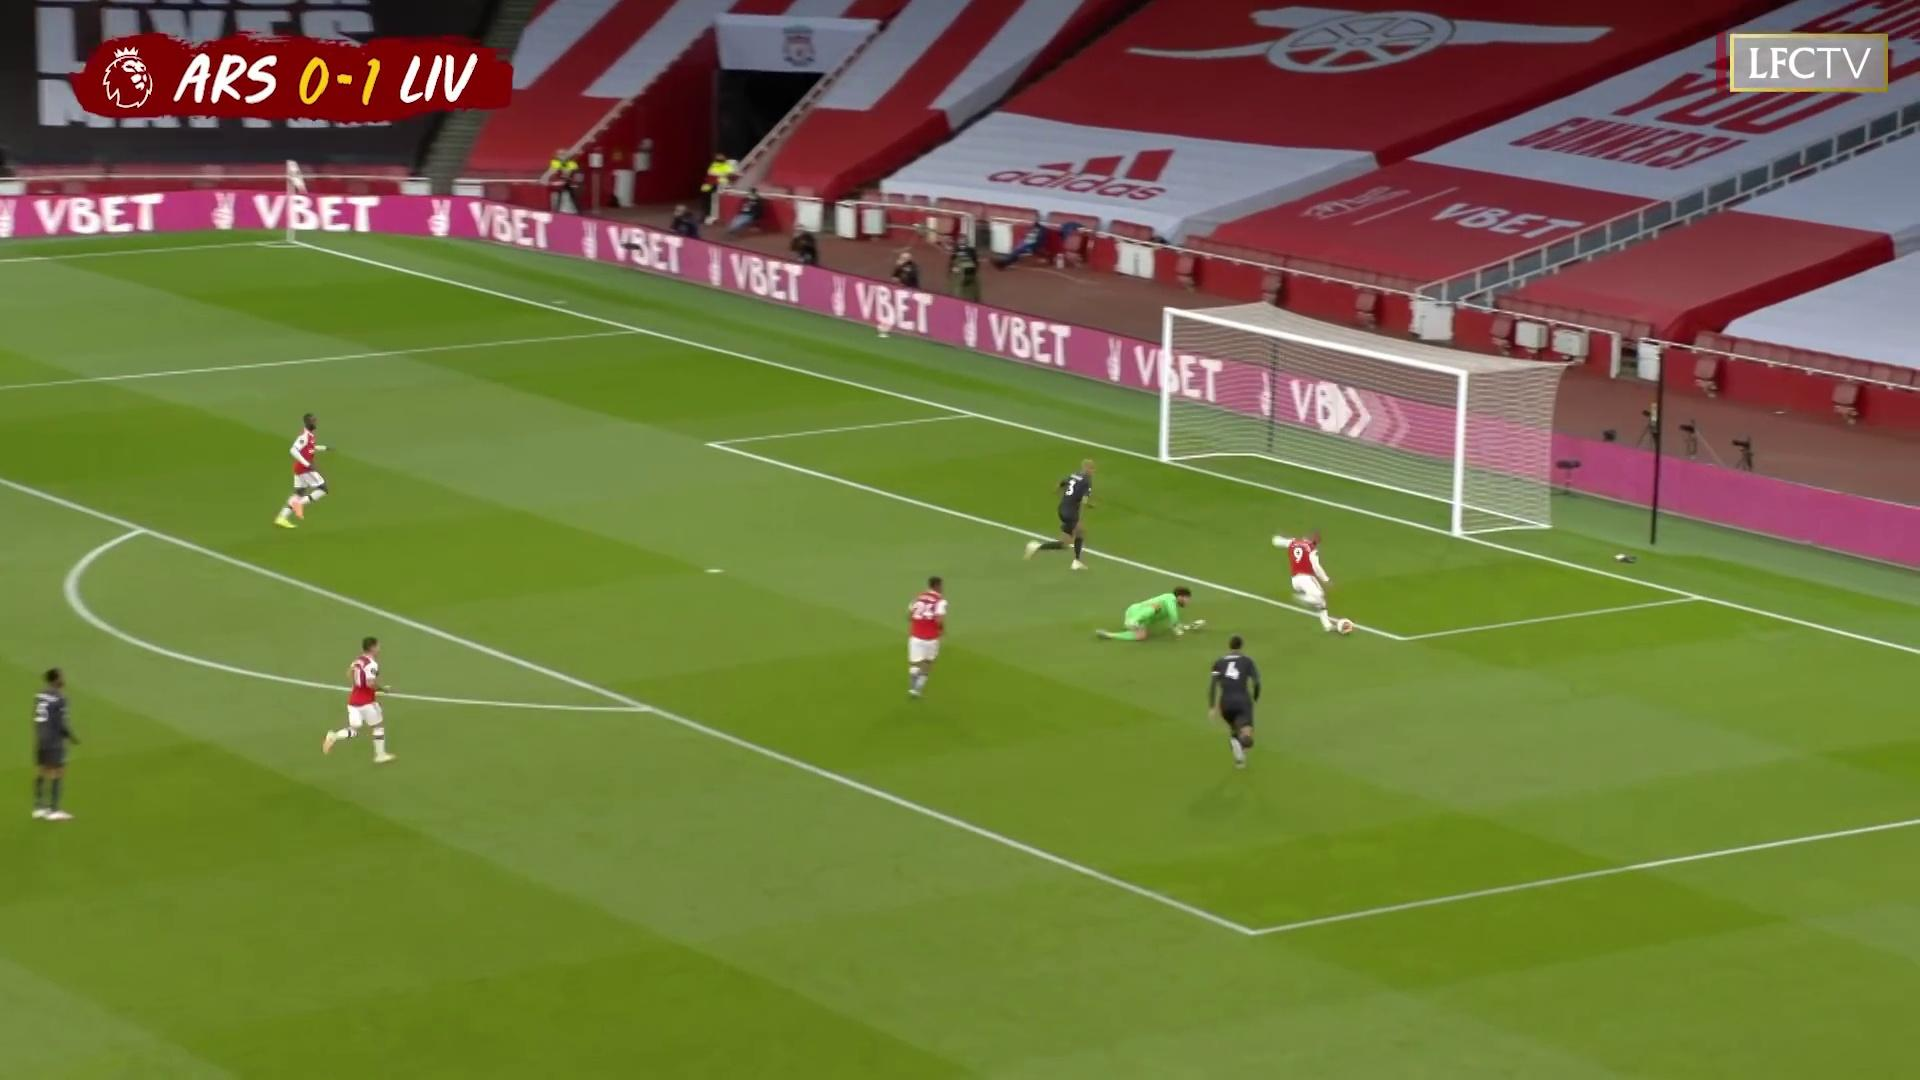ball: (1336, 617, 1354, 636)
